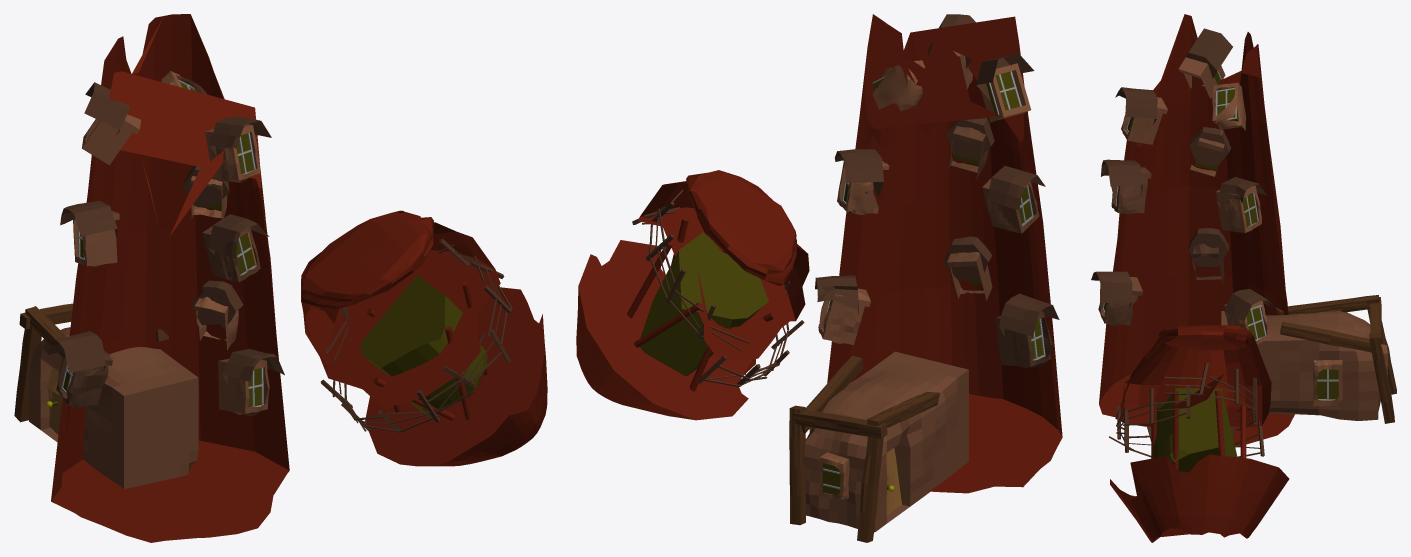
The model's file is Broken_down_light_house.glb.
The picture shows the model from 3 angles, left to right: view 1: azimuth 30°, elevation 25°; view 2: azimuth 150°, elevation 25°; view 3: azimuth 270°, elevation 25°; orthographic projection. The views are drawn at different scales.
Parts seen in each view (by area): view 1: Cylinder.001, Cube.148, Cylinder.003, Cylinder, Cube.149, Cylinder.002, Cube.063, Cube.140, Cube.057, Cylinder.009, Cube.001, Cylinder.012 (+13 smaller); view 2: Cylinder.001, Cube.148, Cylinder.003, Cylinder.002, Cube.149, Cylinder, Cube.137, Cube.077, Cube.141, Cube.063, Cube.143, Cylinder.009 (+17 smaller); view 3: Cylinder.001, Cylinder.003, Cube.148, Cylinder, Cylinder.002, Cube.149, Cube.146, Cylinder.017, Cube.142, Cylinder.014, Cube, Cube.139 (+20 smaller).
Part boxes in pixels (x1,y1,x2,y2): Cylinder.001: (51, 14, 289, 542); Cube.148: (29, 327, 198, 488); Cylinder.003: (365, 287, 547, 466); Cylinder: (301, 211, 500, 408); Cube.149: (301, 210, 433, 310); Cylinder.002: (360, 275, 487, 420); Cube.063: (56, 350, 112, 407); Cube.140: (218, 359, 269, 415); Cube.057: (82, 110, 141, 165); Cylinder.009: (48, 331, 105, 372); Cube.001: (72, 211, 119, 266); Cylinder.012: (60, 200, 117, 238); Cylinder.001: (827, 14, 1062, 493); Cube.148: (804, 351, 968, 532); Cylinder.003: (576, 240, 755, 420); Cylinder.002: (640, 232, 768, 376); Cube.149: (686, 170, 796, 285); Cylinder: (638, 181, 809, 360); Cube.137: (857, 437, 883, 542); Cube.077: (789, 405, 805, 525); Cube.141: (818, 288, 870, 344); Cube.063: (995, 311, 1052, 367); Cube.143: (872, 60, 924, 111); Cylinder.009: (999, 293, 1059, 337); Cylinder.001: (1099, 14, 1294, 447); Cylinder.003: (1110, 454, 1289, 542); Cube.148: (1221, 310, 1380, 420); Cylinder: (1115, 335, 1271, 427); Cylinder.002: (1153, 388, 1237, 472); Cube.149: (1158, 325, 1252, 350); Cube.146: (1280, 321, 1371, 352); Cylinder.017: (1186, 28, 1232, 78); Cube.142: (1215, 185, 1261, 233); Cylinder.014: (1091, 271, 1132, 307); Cube: (1276, 295, 1379, 315); Cube.139: (1111, 167, 1151, 213).
Bounding box in the file's own units: 14.03 × 13.42 × 9.48.
